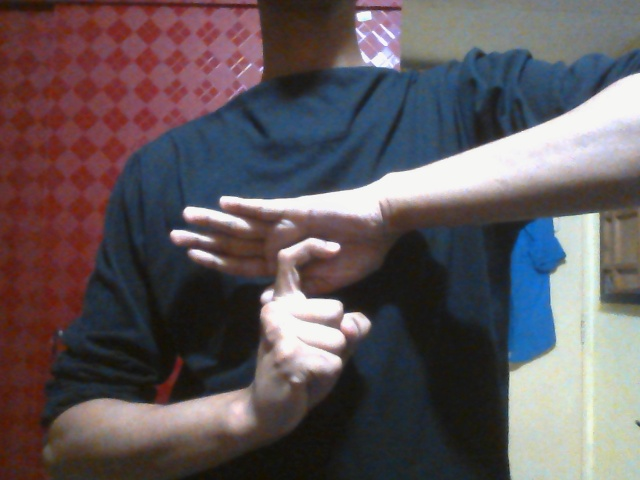R: (168, 187, 384, 422)
